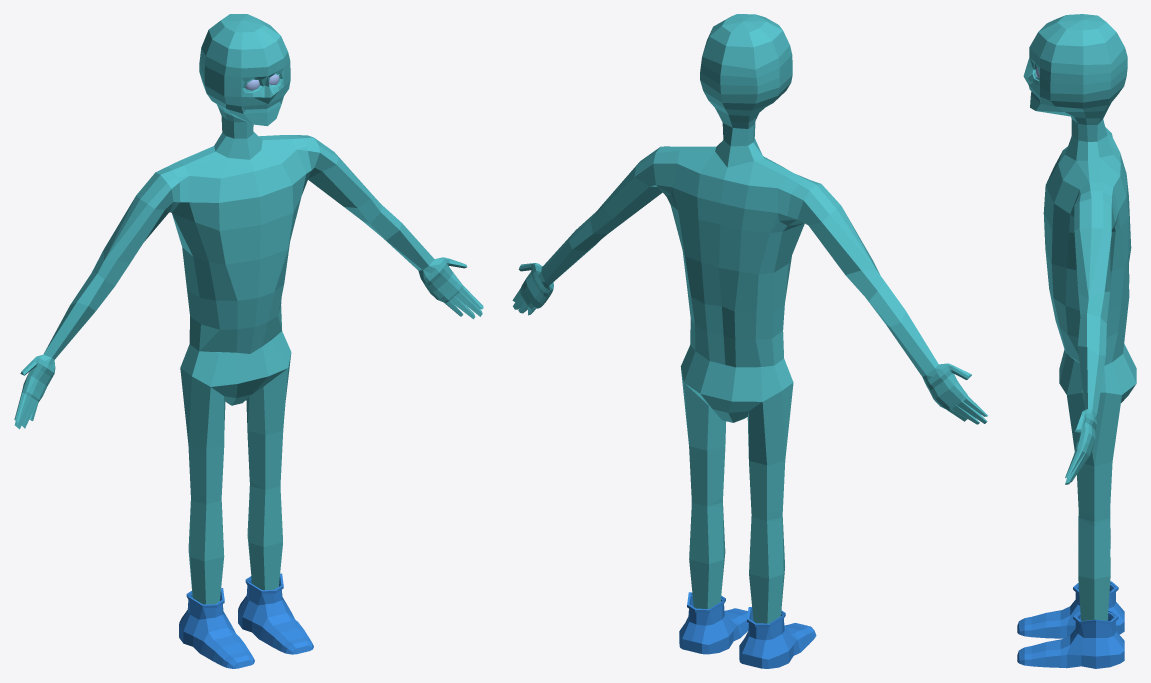
Rendered from Player_Character_01_3_blue.fbx.
3 views of the same model, side by side, from view 1: azimuth 30°, elevation 25°; view 2: azimuth 150°, elevation 25°; view 3: azimuth 270°, elevation 25° (orthographic).
Parts seen in each view (by area): view 1: Chest, Shoes; view 2: Chest, Shoes; view 3: Chest, Shoes.
Boxes of the visible parts, box(x1,y1,x2,y2) form: Chest: box(14, 14, 483, 604); Shoes: box(179, 573, 313, 668); Chest: box(512, 14, 987, 623); Shoes: box(679, 592, 816, 668); Chest: box(1023, 14, 1136, 620); Shoes: box(1017, 581, 1124, 668).
Size of the model in its own units: 2381 by 2991 by 518.
